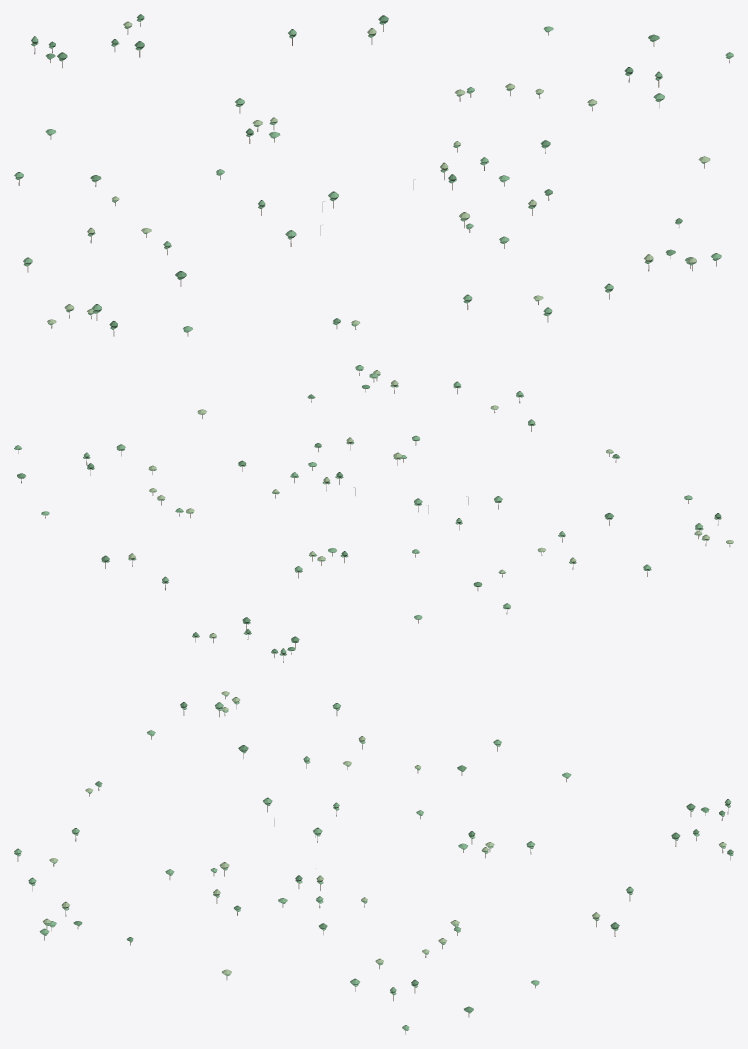
3 renders of one model, top to bottom at view 1: azimuth 30°, elevation 25°; view 2: azimuth 150°, elevation 25°; view 3: azimuth 270°, elevation 25°, orthographic. The views are drawn at different scales.
Parts seen in each view (by area): view 1: Motijheel neighborhood furniture (approximate); view 2: Motijheel neighborhood furniture (approximate); view 3: Motijheel neighborhood furniture (approximate).
Part boxes in pixels (x1=…): Motijheel neighborhood furniture (approximate): x1=14, y1=14, x2=733, y2=336; Motijheel neighborhood furniture (approximate): x1=14, y1=365, x2=733, y2=662; Motijheel neighborhood furniture (approximate): x1=14, y1=691, x2=733, y2=1034.
Size of the model in its own units: 574 by 12.18 by 516.
